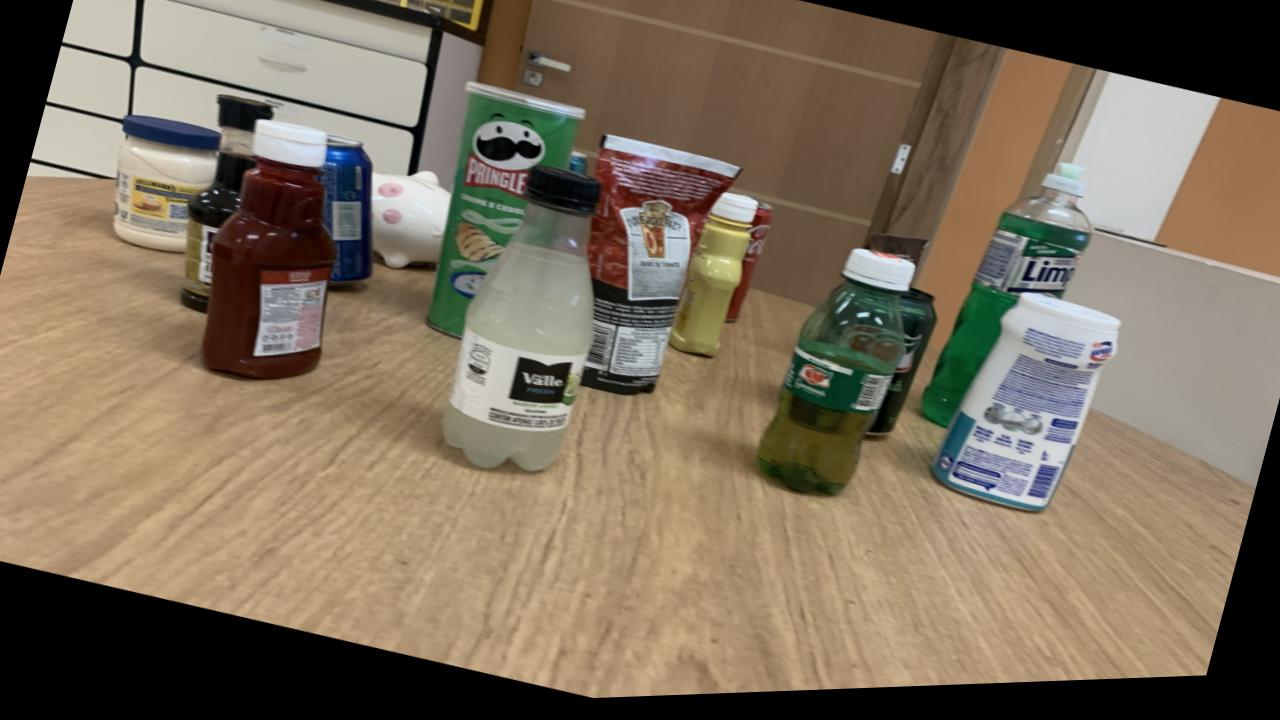Cleaner-Cleanup_Items: (932, 302, 1119, 519)
Coke-Drinks: (724, 209, 773, 328)
Detergent-Cleanup_Items: (921, 172, 1093, 431)
English_Sauce-Pantry_Items: (180, 96, 274, 314)
Guarana-Drinks: (757, 257, 912, 502)
Guarana_Can-Drinks: (868, 296, 937, 443)
Ketchup-Pantry_Items: (202, 122, 337, 381)
Mayonnaise-Pantry_Items: (113, 116, 221, 255)
Mustard-Pantry_Items: (669, 199, 757, 363)
Pig_Safe-Miscellaneous: (371, 174, 452, 272)
Pringles-Snacks: (426, 85, 584, 340)
Soda-Drinks: (442, 169, 600, 475)
Tea-Drinks: (568, 155, 588, 178)
Tomato_Sauce-Pantry_Items: (582, 140, 740, 399)
Tonic-Drinks: (320, 137, 373, 286)
